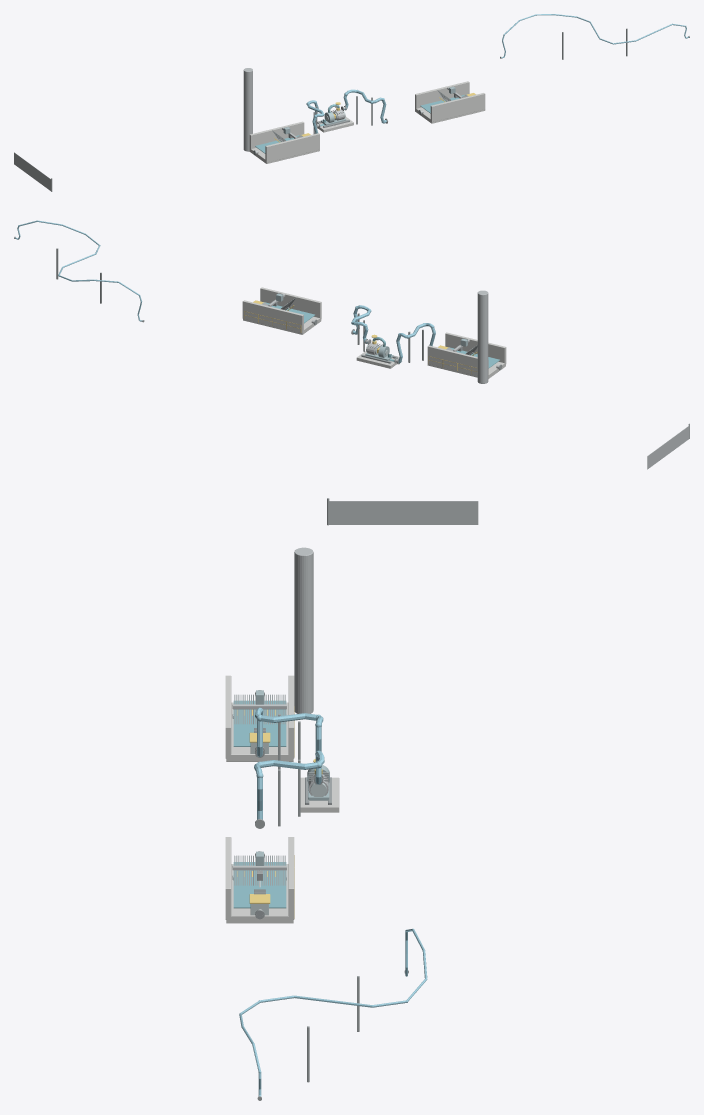
3 renders of one model, top to bottom at view 1: azimuth 30°, elevation 25°; view 2: azimuth 150°, elevation 25°; view 3: azimuth 270°, elevation 25°, orthographic. The views are drawn at different scales.
Parts seen in each view (by area): view 1: render-batch-8, render-batch-5, render-batch-1, render-batch-0, render-batch-3, render-batch-2; view 2: render-batch-8, render-batch-5, render-batch-1, render-batch-3, render-batch-9, render-batch-0, render-batch-2; view 3: render-batch-5, render-batch-8, render-batch-0, render-batch-1, render-batch-2, render-batch-3.
Boxes of the visible parts, box(x1,y1,x2,y2) form: render-batch-8: box(249, 81, 485, 163); render-batch-5: box(14, 68, 252, 190); render-batch-1: box(306, 14, 688, 133); render-batch-0: box(255, 94, 466, 153); render-batch-3: box(51, 28, 689, 191); render-batch-2: box(253, 90, 468, 155); render-batch-8: box(242, 287, 506, 378); render-batch-5: box(477, 290, 689, 469); render-batch-1: box(15, 220, 435, 363); render-batch-3: box(14, 236, 689, 438); render-batch-9: box(244, 300, 477, 374); render-batch-0: box(263, 302, 499, 368); render-batch-2: box(261, 297, 502, 370); render-batch-5: box(294, 501, 478, 713); render-batch-8: box(225, 675, 339, 923); render-batch-0: box(233, 700, 286, 908); render-batch-1: box(239, 707, 427, 1096); render-batch-2: box(234, 690, 331, 919); render-batch-3: box(255, 498, 408, 1100).
Bounding box in the file's own units: 97.73 × 12 × 17.22.
